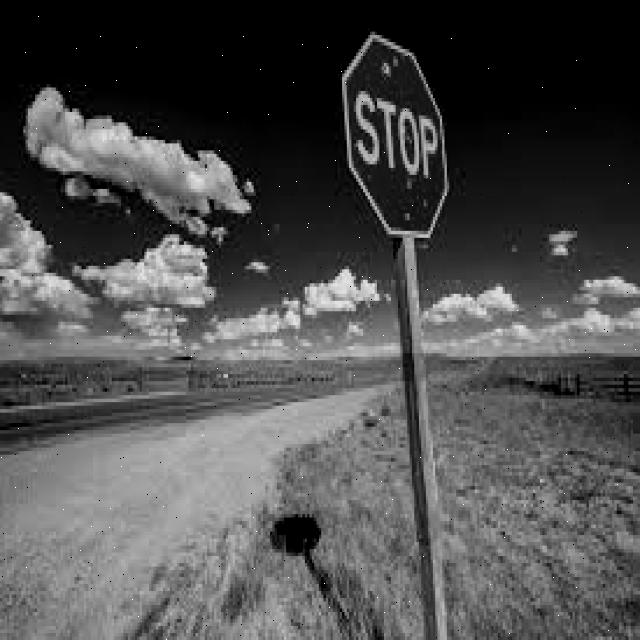stop sign: (343, 29, 449, 240)
